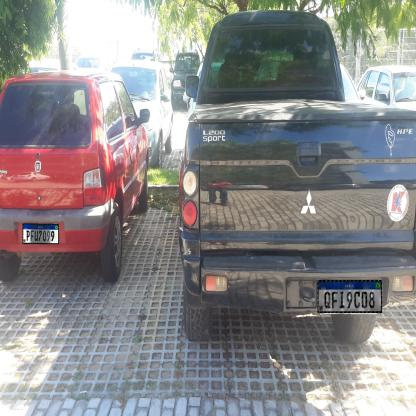PlacaM: (318, 280, 382, 313), (22, 224, 59, 244)
